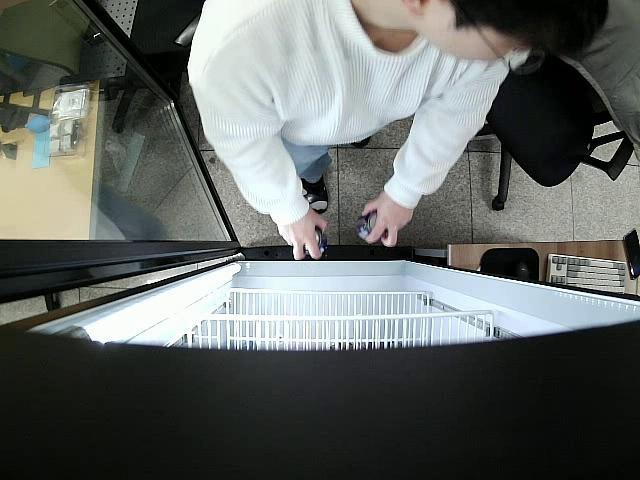14_welchsGrape: (354, 213, 388, 242), (302, 228, 328, 258)
